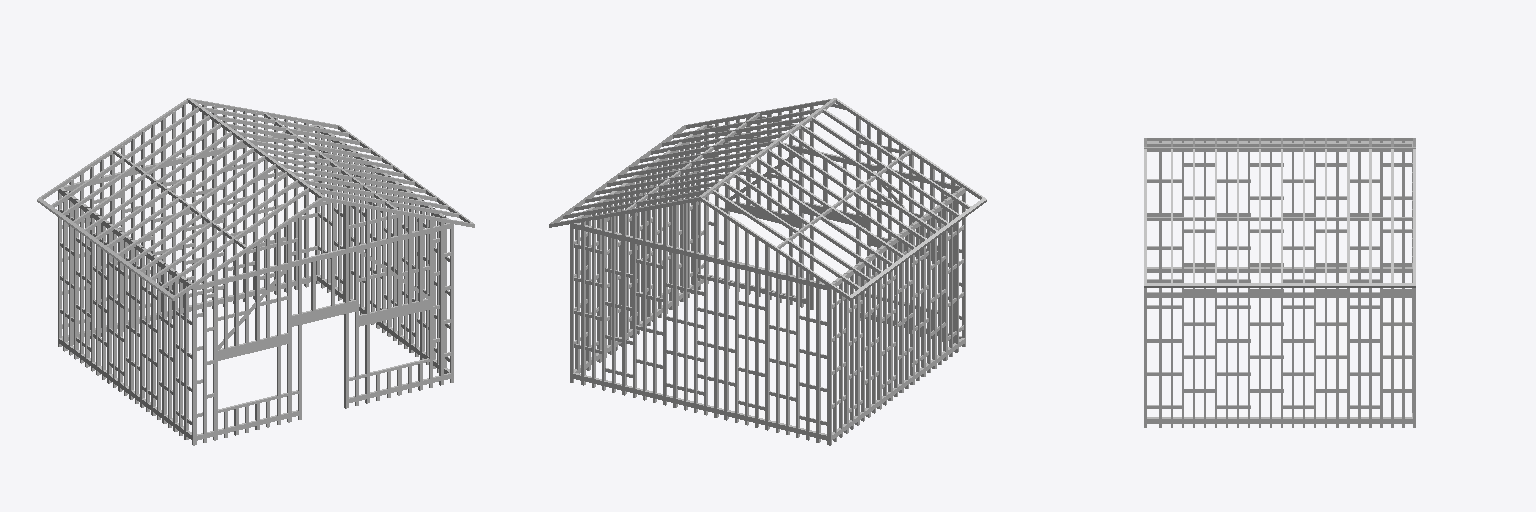
File: Frame_AngledCrossed.obj
3 views of the same model, side by side, from view 1: azimuth 30°, elevation 25°; view 2: azimuth 150°, elevation 25°; view 3: azimuth 270°, elevation 25° (orthographic).
Visible parts, largest first — view 1: Frame_AngledCrossed; view 2: Frame_AngledCrossed; view 3: Frame_AngledCrossed.
Boxes of the visible parts, x1,y1,x2,y2 form: Frame_AngledCrossed: [37, 98, 474, 445]; Frame_AngledCrossed: [549, 98, 986, 445]; Frame_AngledCrossed: [1144, 138, 1415, 427].
Bounding box in the file's own units: 631 × 432 × 490.